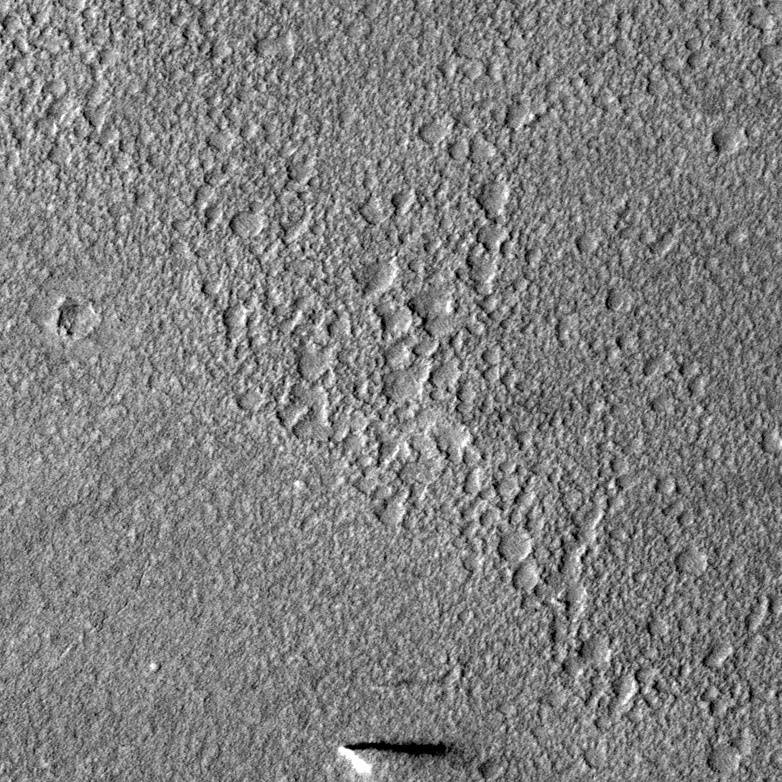dust_devil: (336, 737, 467, 777)
